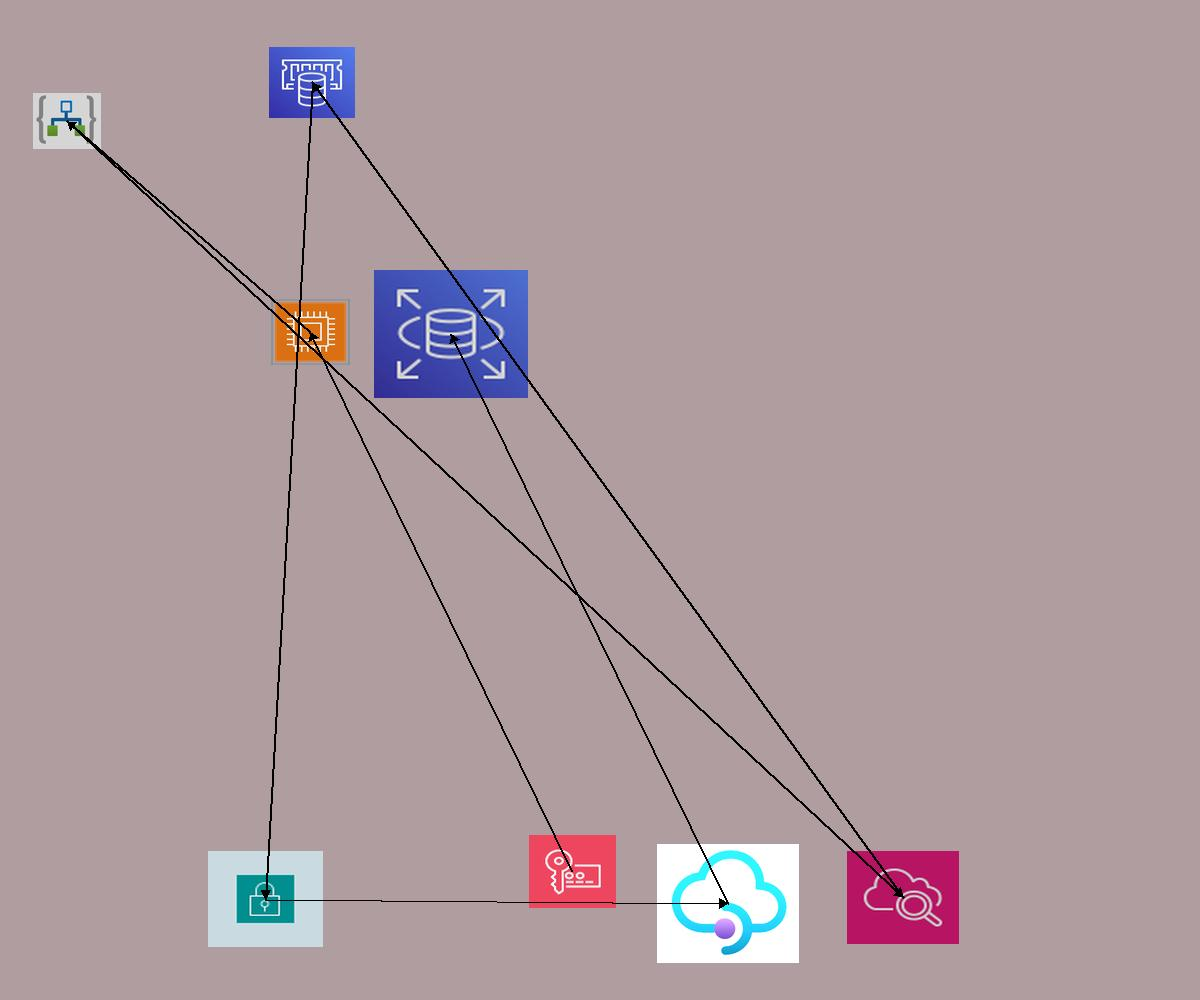AWS-Category_Compute: (271, 299, 350, 365)
AWS-CloudWatch: (847, 851, 959, 944)
AWS-ElastiCache: (269, 47, 355, 118)
AWS-Key-Management-Service: (529, 835, 616, 908)
AWS-Private-subnet: (208, 851, 323, 947)
AWS-RDS: (374, 270, 528, 398)
Azure_api_gateway: (657, 844, 799, 963)
Azure_integration-204-Logic-Apps: (33, 93, 101, 149)
